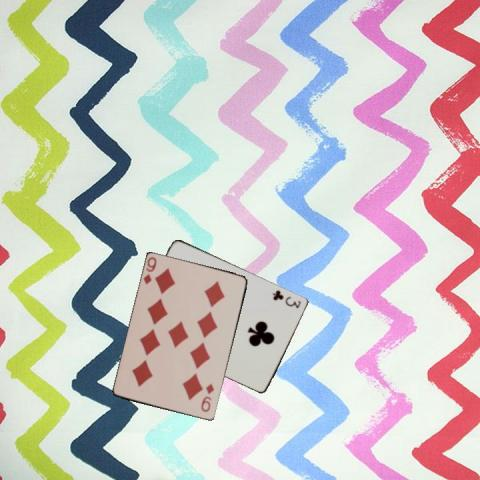3c: (270, 287, 303, 310)
9d: (198, 381, 215, 413), (141, 254, 158, 286)
